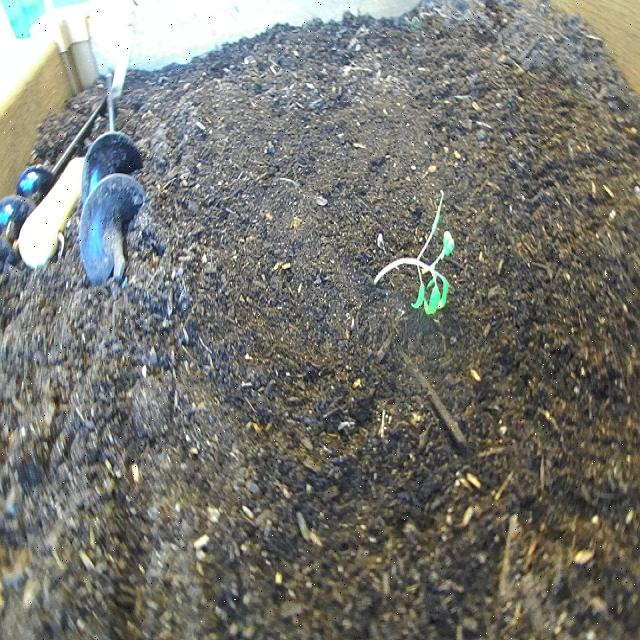Healthy: (370, 188, 458, 319)
